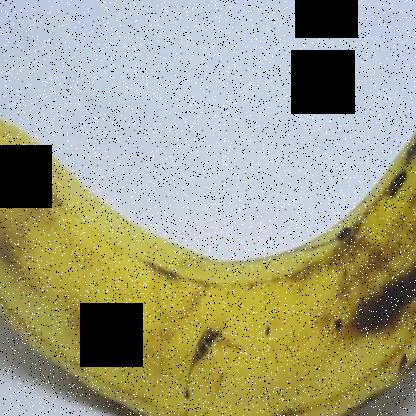ripe: (1, 24, 416, 415)
